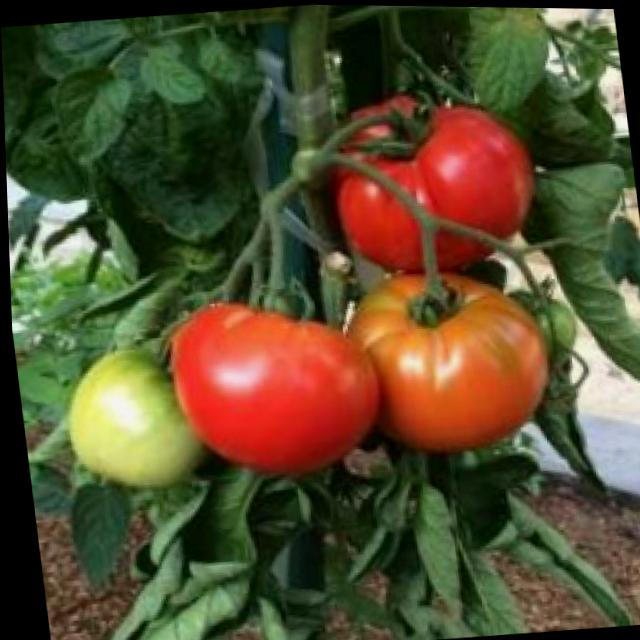tomato: (333, 260, 559, 462), (325, 85, 543, 275), (164, 289, 383, 475)
